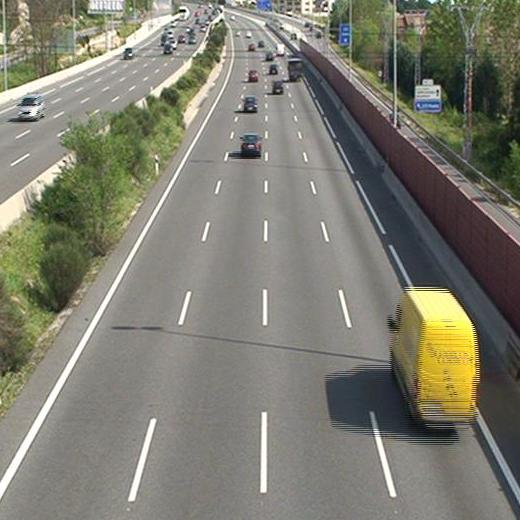car: (239, 133, 261, 156), (242, 96, 257, 113), (270, 79, 284, 95), (248, 69, 260, 83), (268, 63, 279, 74)
small-truck: (287, 58, 302, 80)
van: (390, 287, 478, 430), (276, 44, 287, 57)
